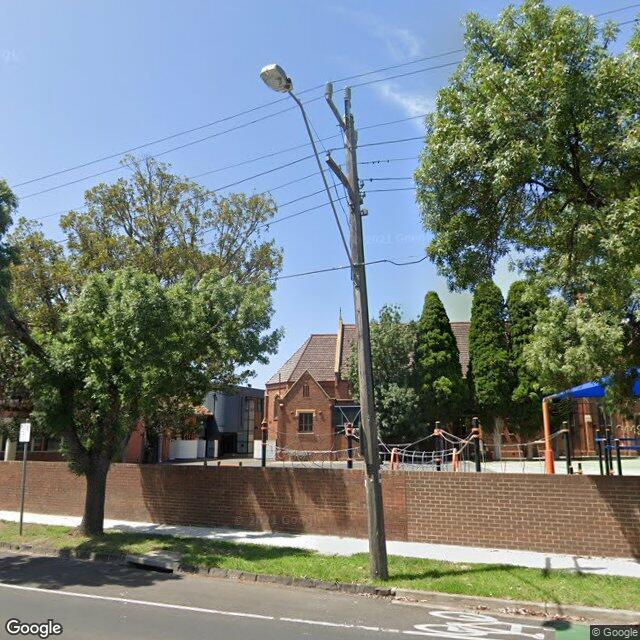HV-transmission: (326, 82, 358, 143)
crossarm: (327, 100, 357, 149), (326, 156, 354, 200)
streetlight: (260, 64, 358, 282)
timber-pole: (342, 113, 387, 581)
